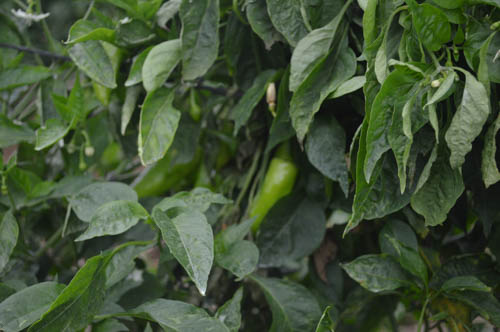ChiliPepper: (246, 155, 297, 230), (140, 143, 193, 200)
